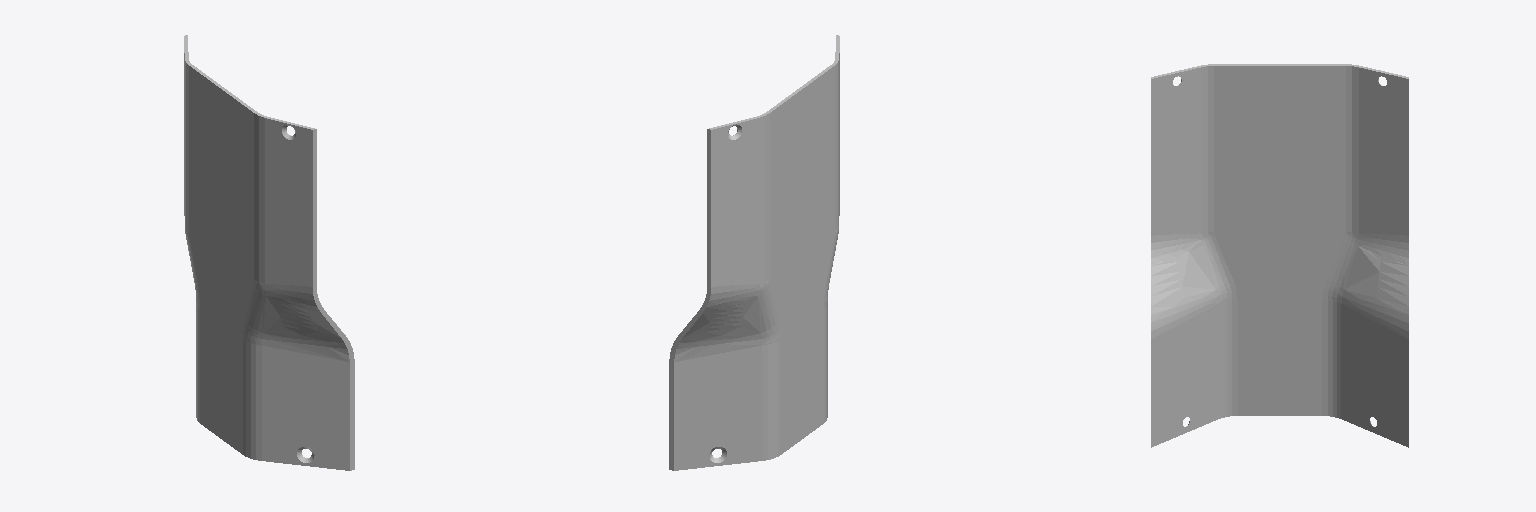
File: chassis_right.obj
3 renders of one model, left to right at view 1: azimuth 30°, elevation 25°; view 2: azimuth 150°, elevation 25°; view 3: azimuth 270°, elevation 25°, orthographic.
Visible parts, largest first — view 1: right; view 2: right; view 3: right.
Boxes of the visible parts, x1=… form: right: x1=184, y1=35, x2=354, y2=470; right: x1=669, y1=35, x2=839, y2=470; right: x1=1151, y1=64, x2=1408, y2=447.
Bounding box in the file's own units: 0.0259 × 0.126 × 0.084.